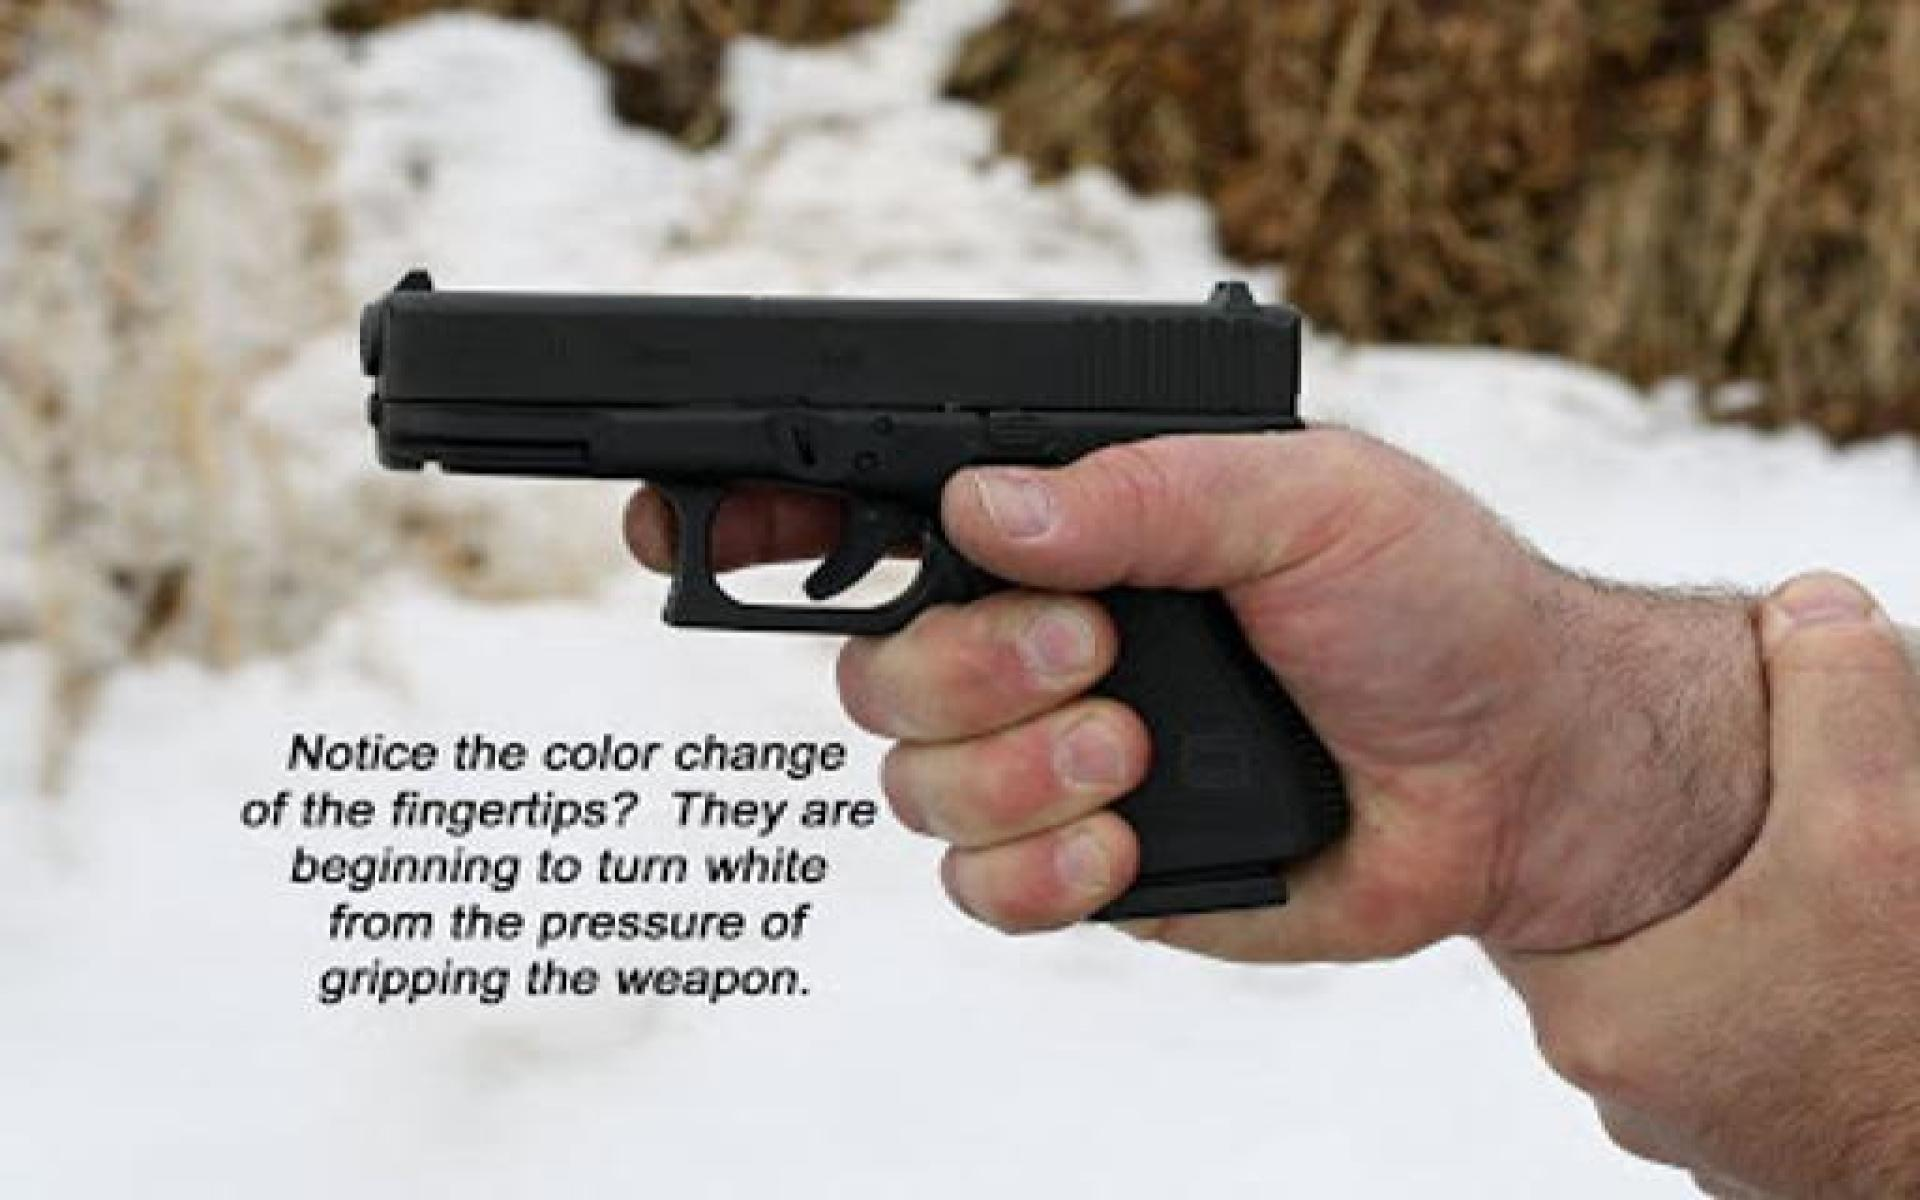gun: (346, 260, 1339, 910)
